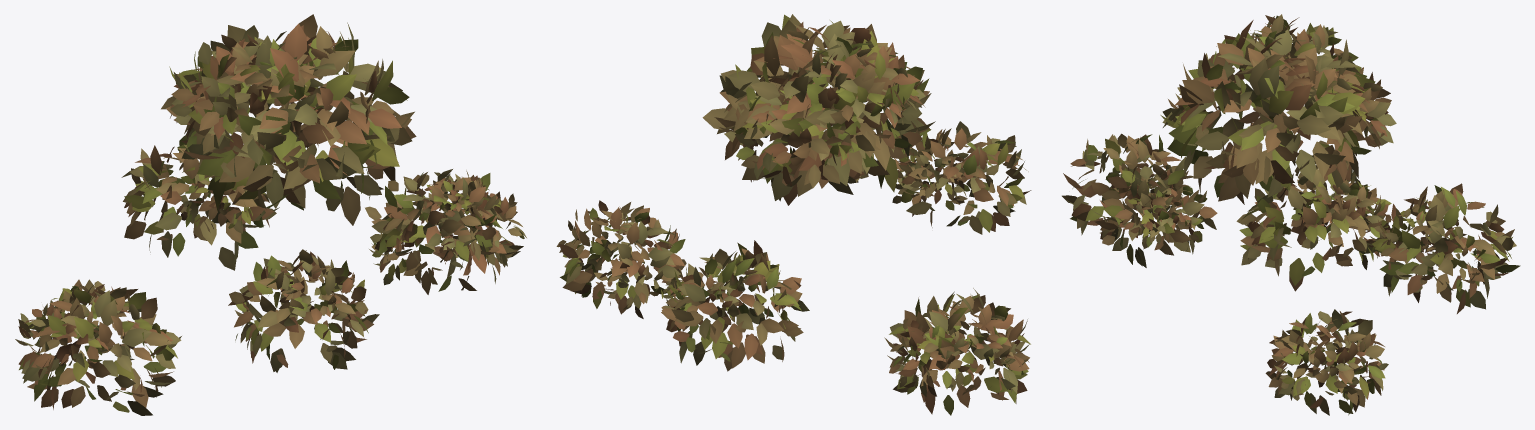
File: Night_LeavesRoost.fbx
3 renders of one model, left to right at view 1: azimuth 30°, elevation 25°; view 2: azimuth 150°, elevation 25°; view 3: azimuth 270°, elevation 25°, orthographic. The views are drawn at different scales.
Visible parts, largest first — view 1: Night_LeavesRoost; view 2: Night_LeavesRoost; view 3: Night_LeavesRoost.
Part boxes in pixels (x1,y1,x2,y2): Night_LeavesRoost: [15, 14, 526, 415]; Night_LeavesRoost: [556, 14, 1031, 415]; Night_LeavesRoost: [1062, 14, 1520, 415].
Bounding box in the file's own units: 36.41 × 24.59 × 32.67.
